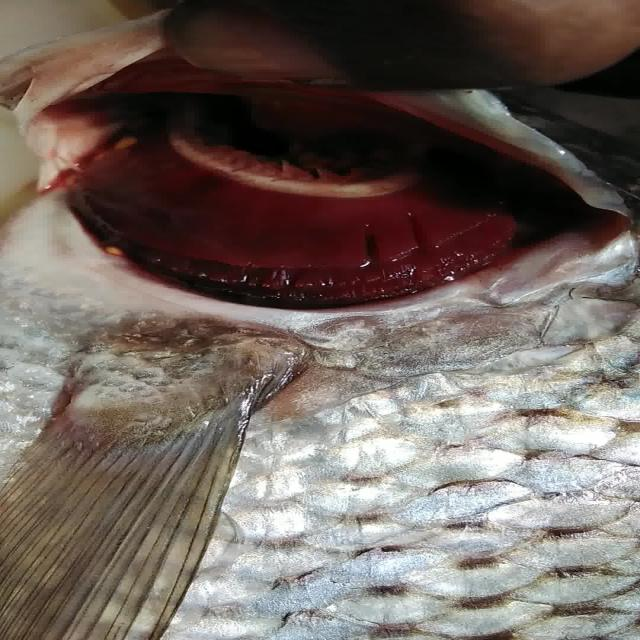Fresh: (18, 117, 619, 316)
